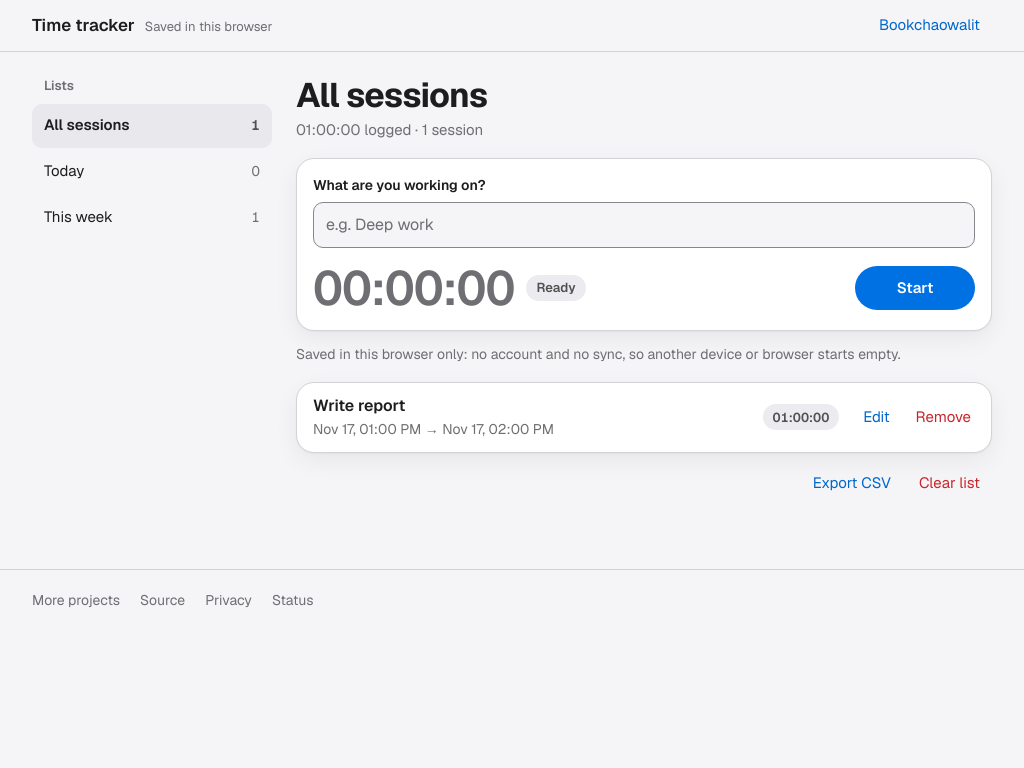
Scenario: lists › Today says nothing is logged when only older sessions exist
The image size is (1024, 768).
Click the button "Today 0". click: (152, 172)
box: [32, 150, 272, 194]
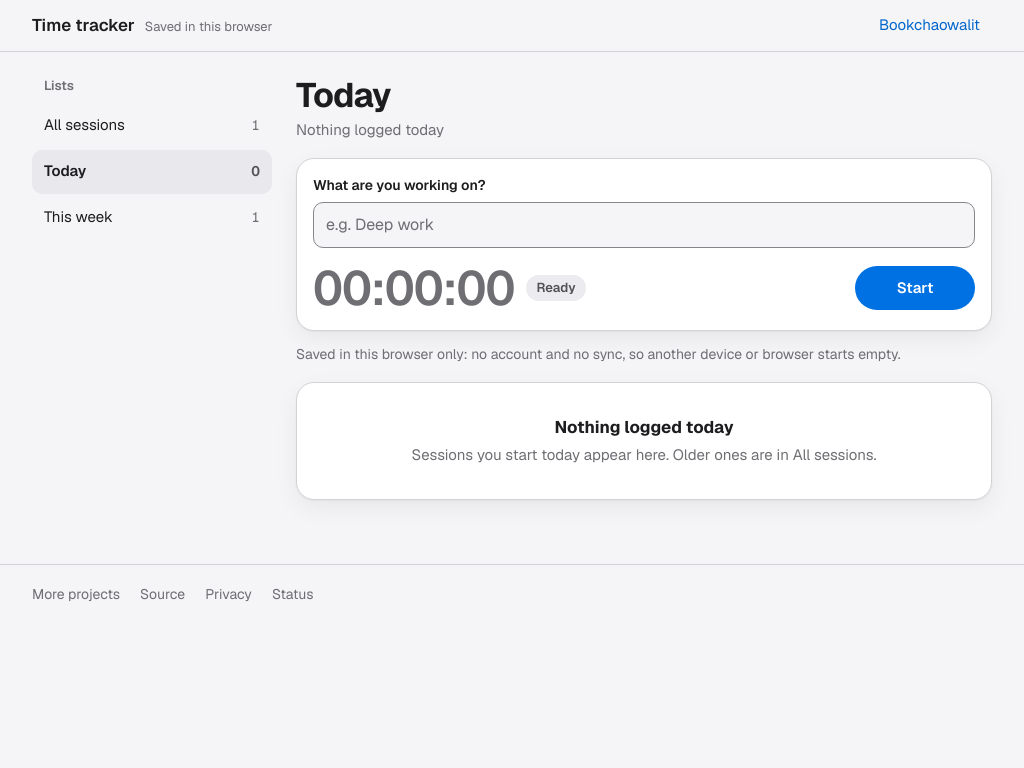
Result: the text "Nothing logged today" is shown at [296, 119, 444, 142]
